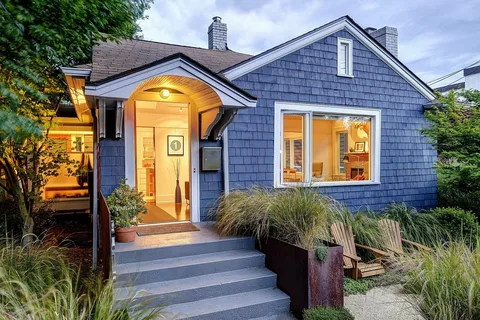private_hause: (65, 11, 447, 225)
